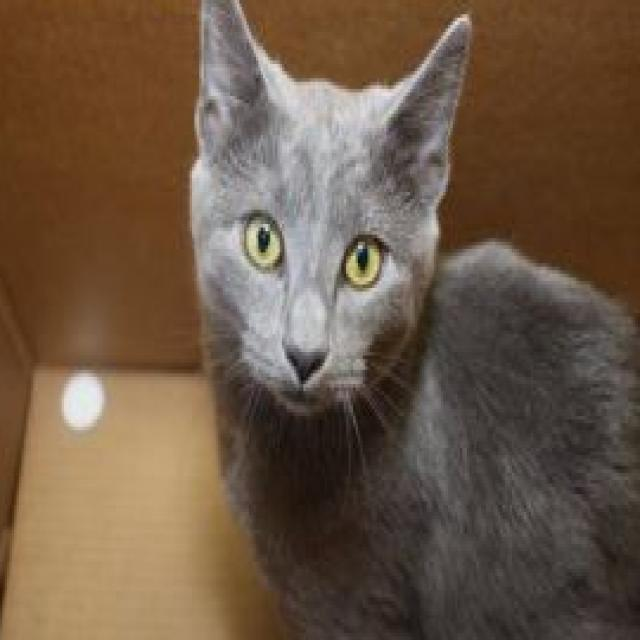Russian Blue: (185, 0, 640, 640)
